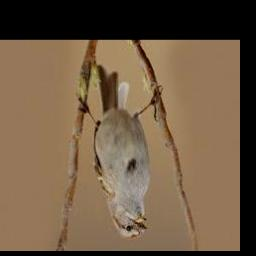Sparrow: (78, 66, 163, 239)
